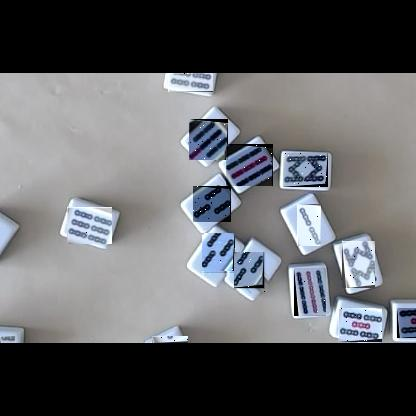2s: (297, 204, 321, 246)
3s: (202, 234, 235, 276), (193, 186, 231, 222), (235, 253, 269, 293)
4s: (152, 336, 188, 343)
5s: (338, 308, 382, 342), (397, 308, 416, 338)
6s: (67, 207, 112, 244), (168, 73, 213, 92), (0, 336, 15, 343)
7s: (189, 119, 228, 160)
8s: (342, 241, 375, 288), (283, 153, 328, 187)
9s: (226, 144, 273, 186), (294, 268, 326, 316)
